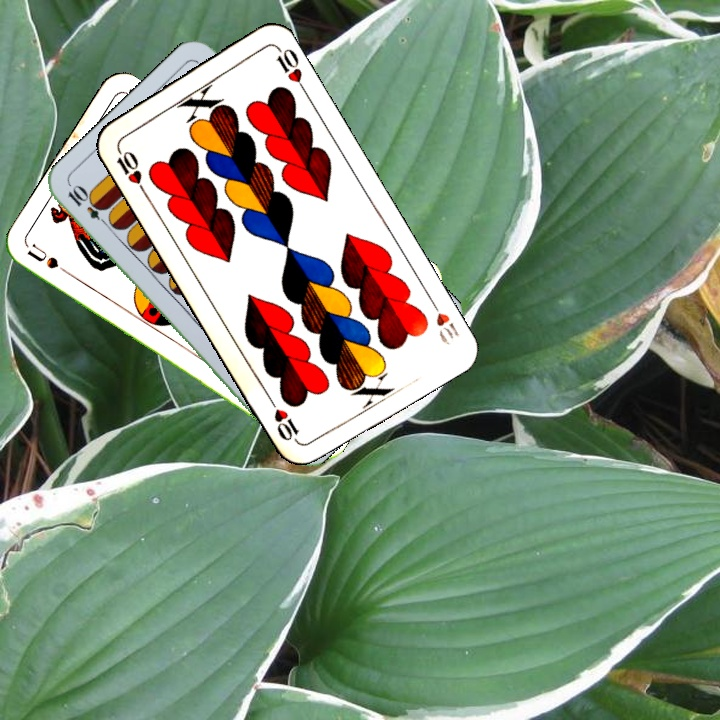E10: (63, 182, 113, 230)
H10: (424, 292, 461, 348), (112, 141, 148, 196)
SU: (23, 241, 79, 282)
